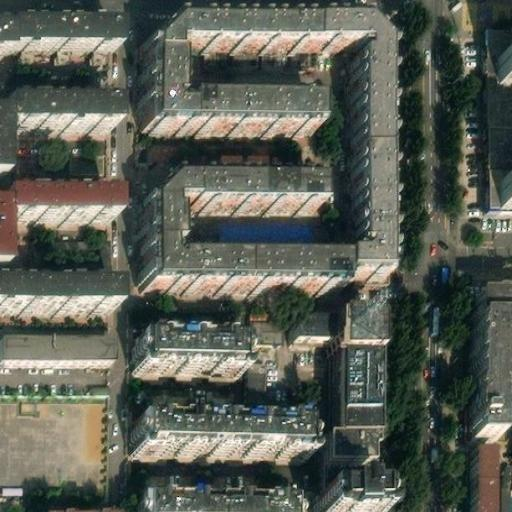building: (138, 44, 308, 134), (336, 46, 381, 277), (130, 423, 309, 463), (146, 19, 376, 46), (163, 253, 337, 285), (336, 301, 377, 425), (486, 22, 512, 204), (166, 175, 314, 201), (132, 331, 236, 367), (139, 175, 173, 284), (467, 312, 498, 431), (0, 18, 112, 46), (10, 87, 120, 115), (9, 174, 122, 201), (0, 282, 111, 309), (0, 333, 107, 361), (131, 494, 290, 512), (325, 424, 376, 455), (320, 488, 383, 512), (472, 446, 493, 512), (470, 290, 512, 319), (296, 300, 338, 329), (240, 320, 279, 349), (36, 500, 121, 512), (495, 453, 512, 512), (500, 48, 512, 78), (502, 172, 512, 199)
